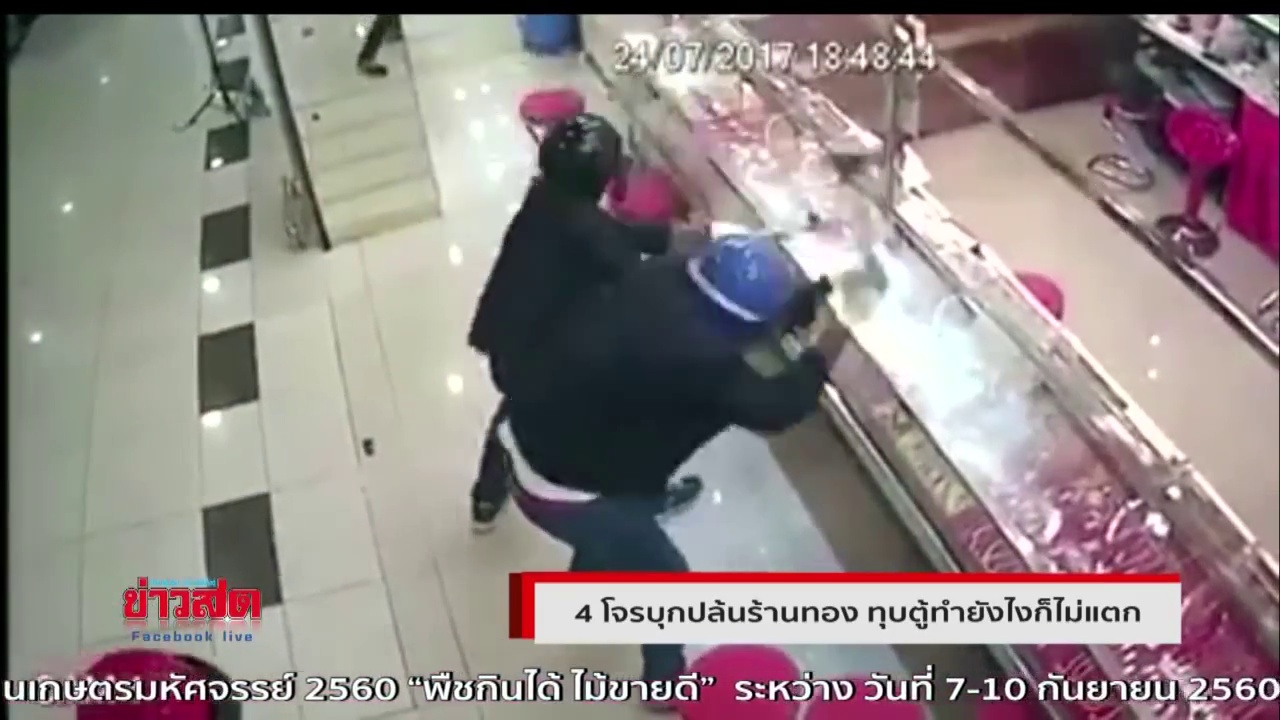helmet: (690, 218, 815, 354), (546, 111, 625, 196)
